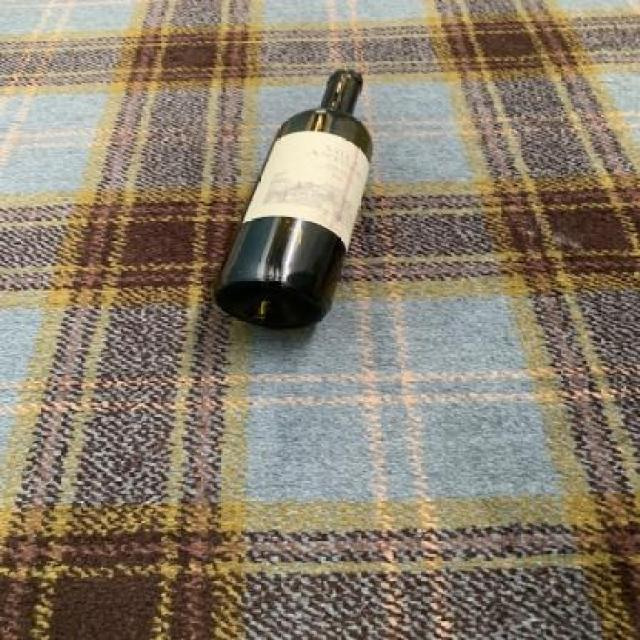trash: (210, 65, 379, 332)
